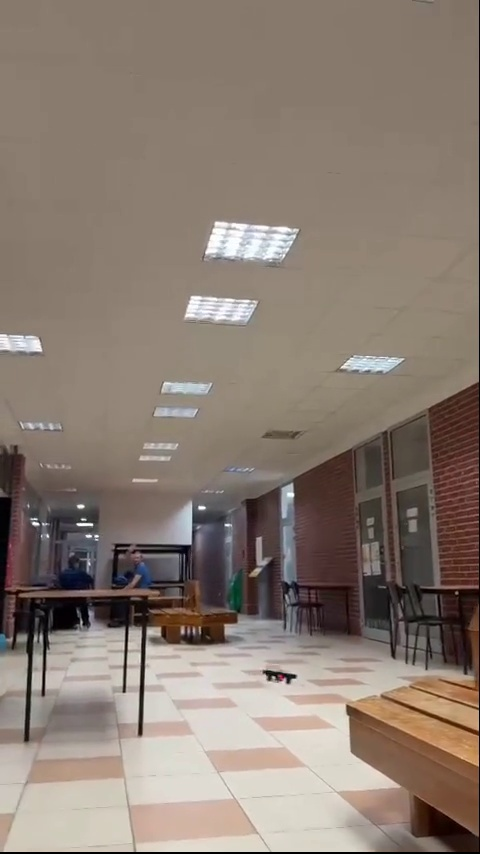drone: (264, 670, 297, 686)
no vest: (107, 549, 153, 587), (63, 553, 90, 597)
